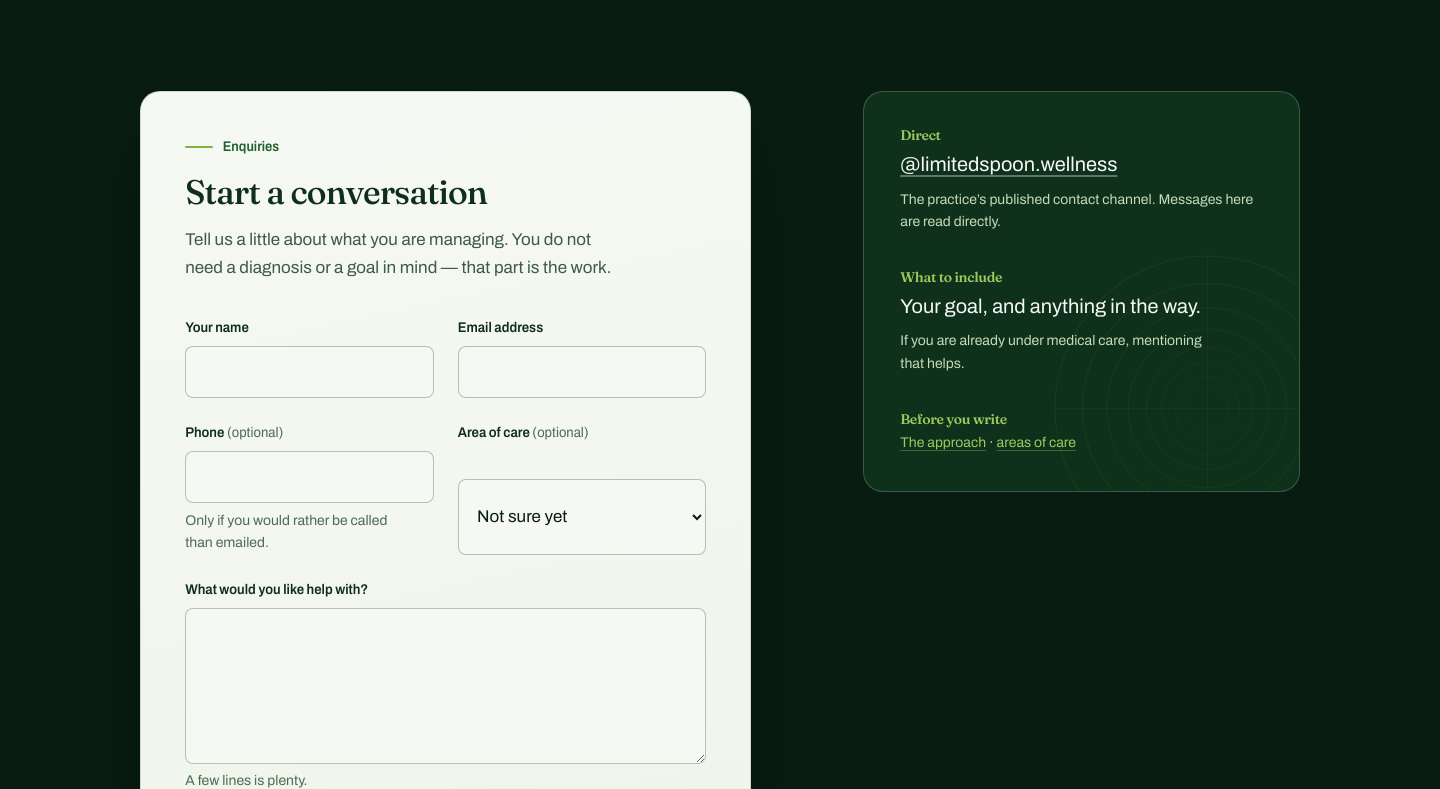
Test: Contact enquiry form › rejects an address that cannot be delivered to
In the field labelled "Your name": (310, 372) [185,346,434,398], type "Priya Raman"
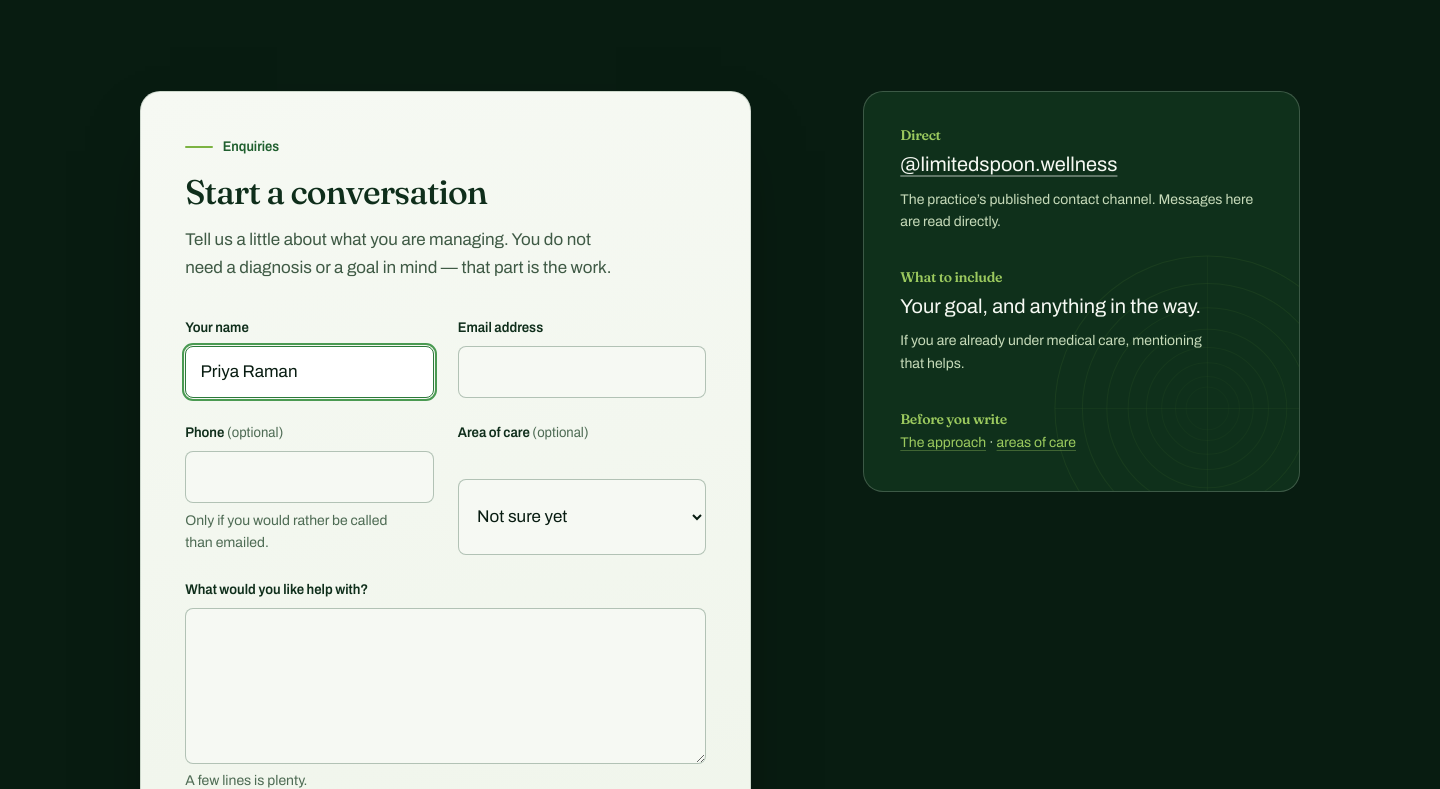
In the field labelled "Email address": (582, 372) [458,346,706,398], type "priya@@nope"
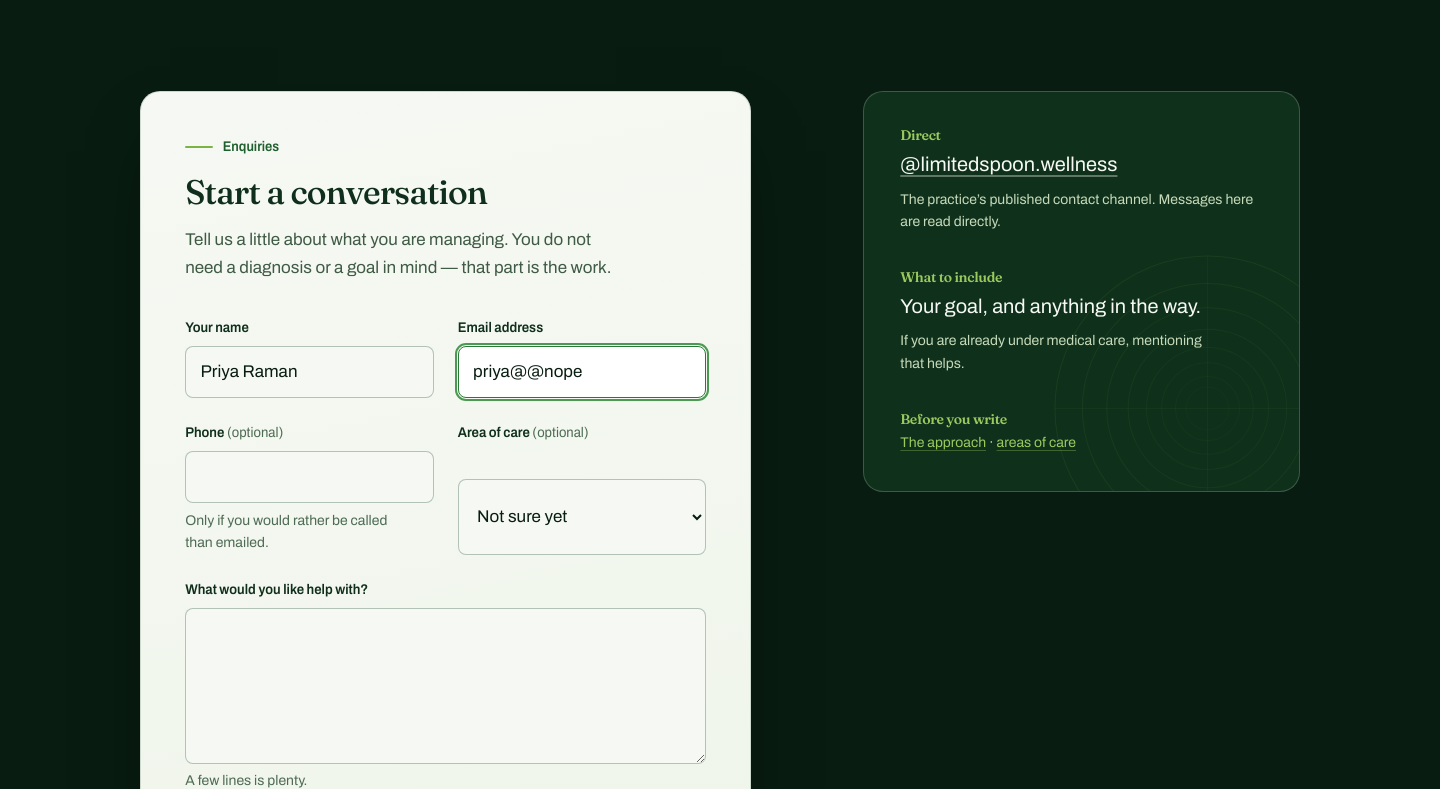
In the text box labelled "What would you like help with?": (446, 686) [185,608,706,764], type "A real message here."
(page scrolled)
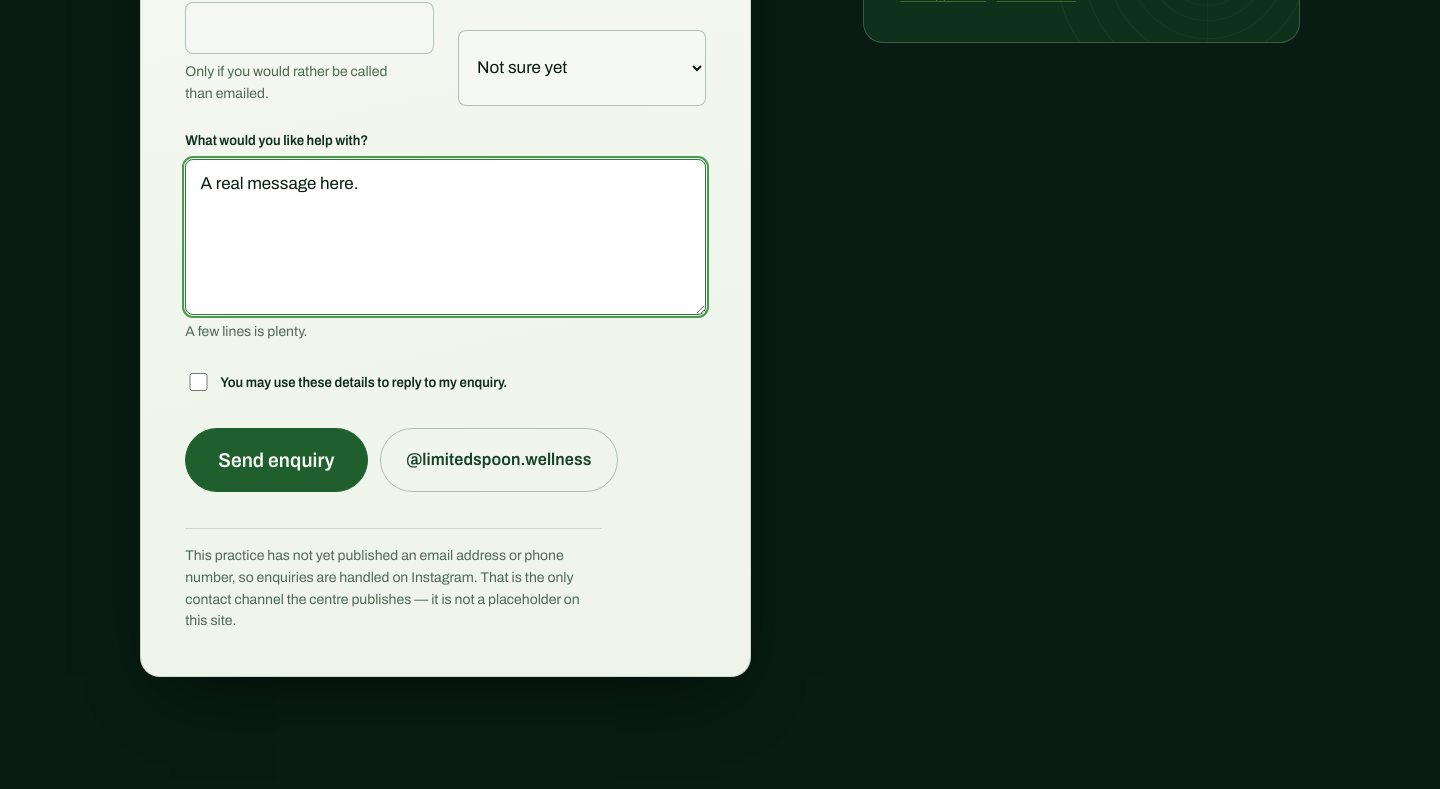
Click the button "Send enquiry": (276, 460) [185,428,368,492]
(page scrolled)
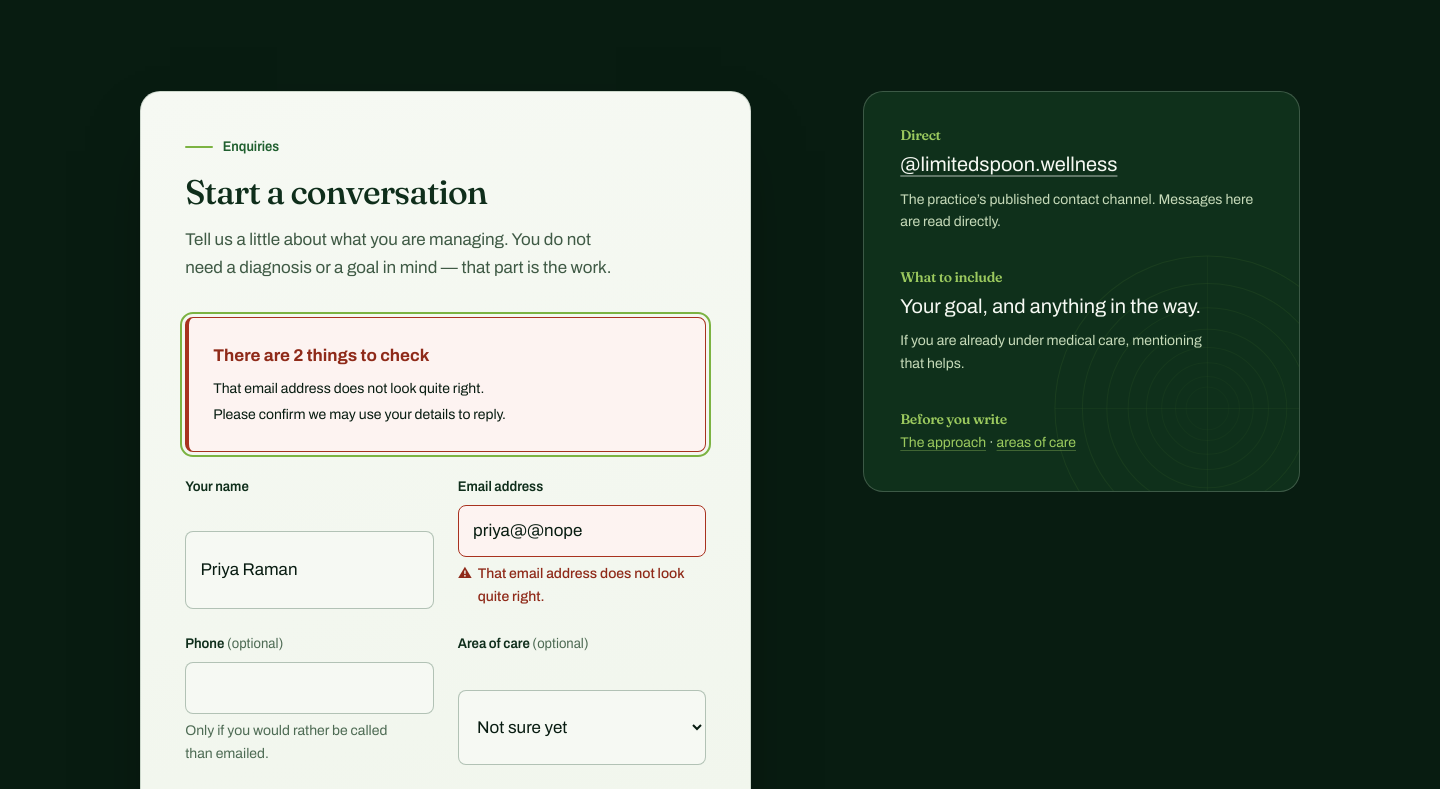
Expected: the text "⚠ That email address does not look quite right." is shown, [458,563,706,609]
